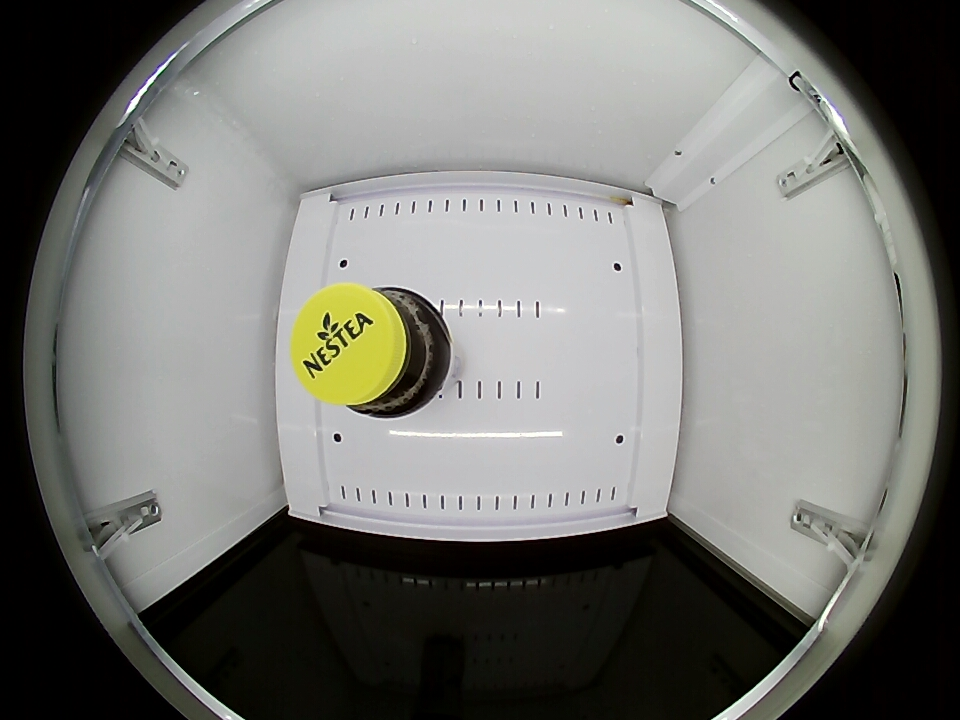chacui: (291, 283, 446, 419)
